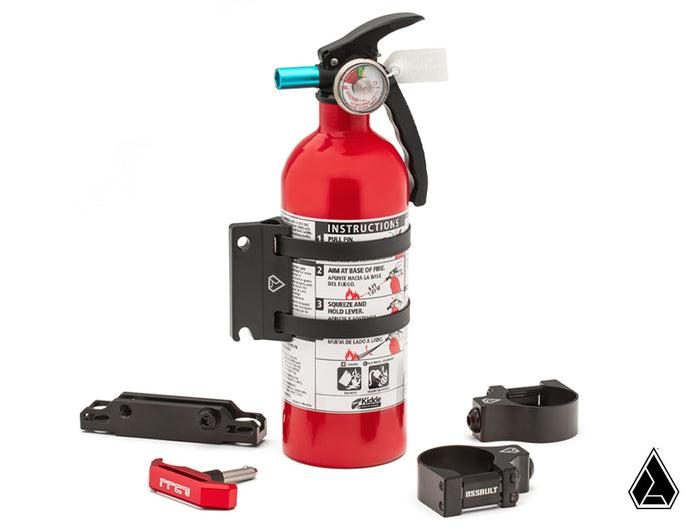Fire Extinguisher: (263, 14, 433, 480)
